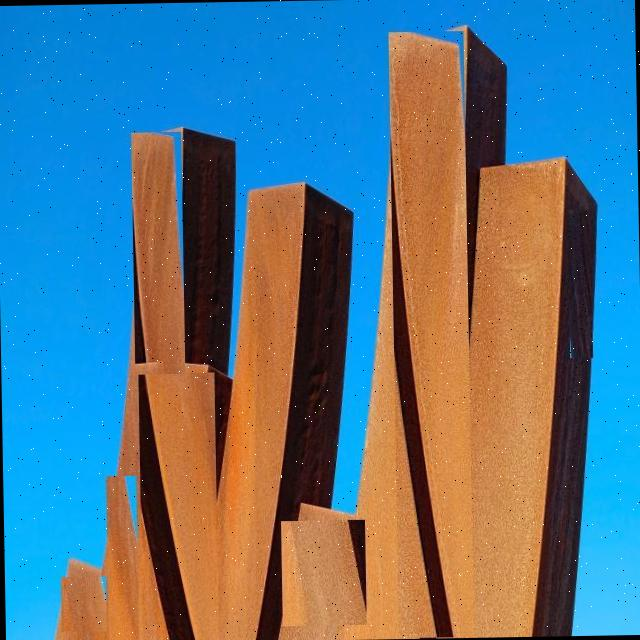Corrosion: (41, 21, 604, 640)
